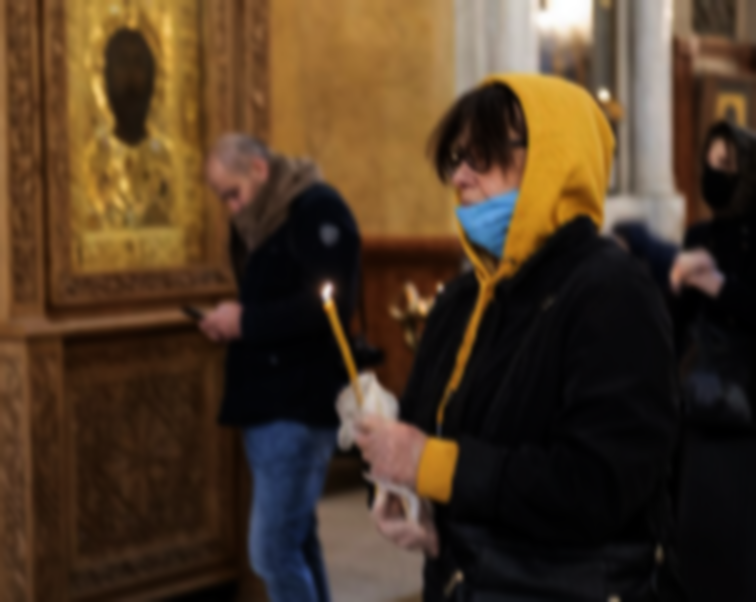mask_weared_incorrect: (439, 72, 609, 257)
